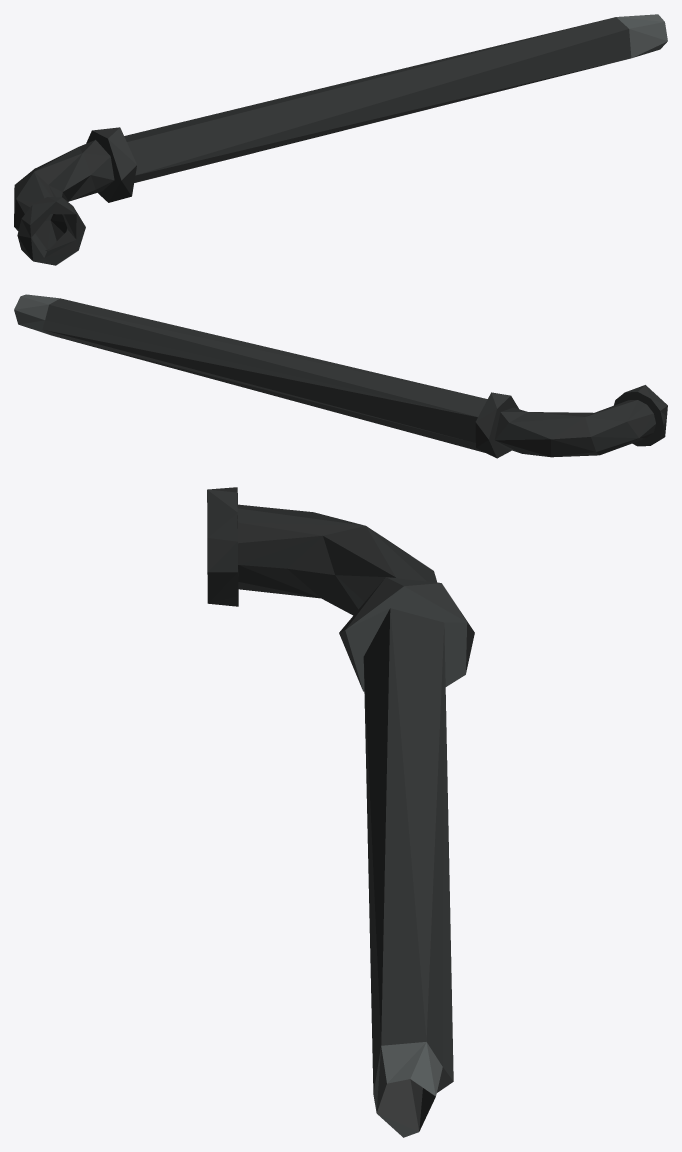
File: Model_Gazrurka.fbx
3 renders of one model, top to bottom at view 1: azimuth 30°, elevation 25°; view 2: azimuth 150°, elevation 25°; view 3: azimuth 270°, elevation 25°, orthographic. The views are drawn at different scales.
Visible parts, largest first — view 1: GazRurka; view 2: GazRurka; view 3: GazRurka.
Boxes of the visible parts, left/top/right/bottom form: GazRurka: left=14, top=14, right=667, bottom=265; GazRurka: left=14, top=294, right=667, bottom=458; GazRurka: left=207, top=487, right=474, bottom=1137.
Size of the model in its own units: 10.28 by 4.98 by 53.18.
